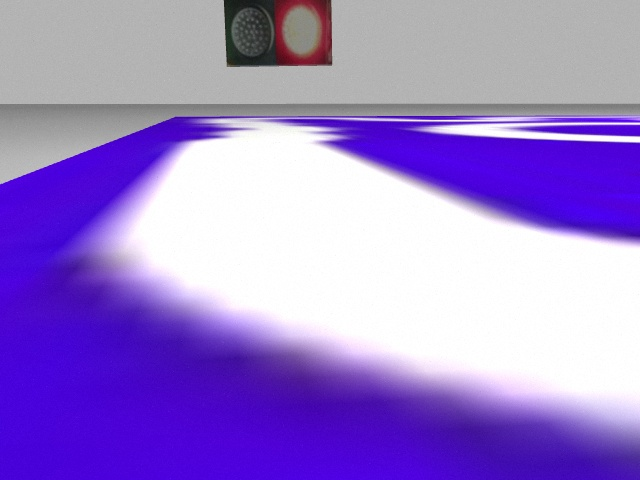red: (272, 1, 333, 66)
